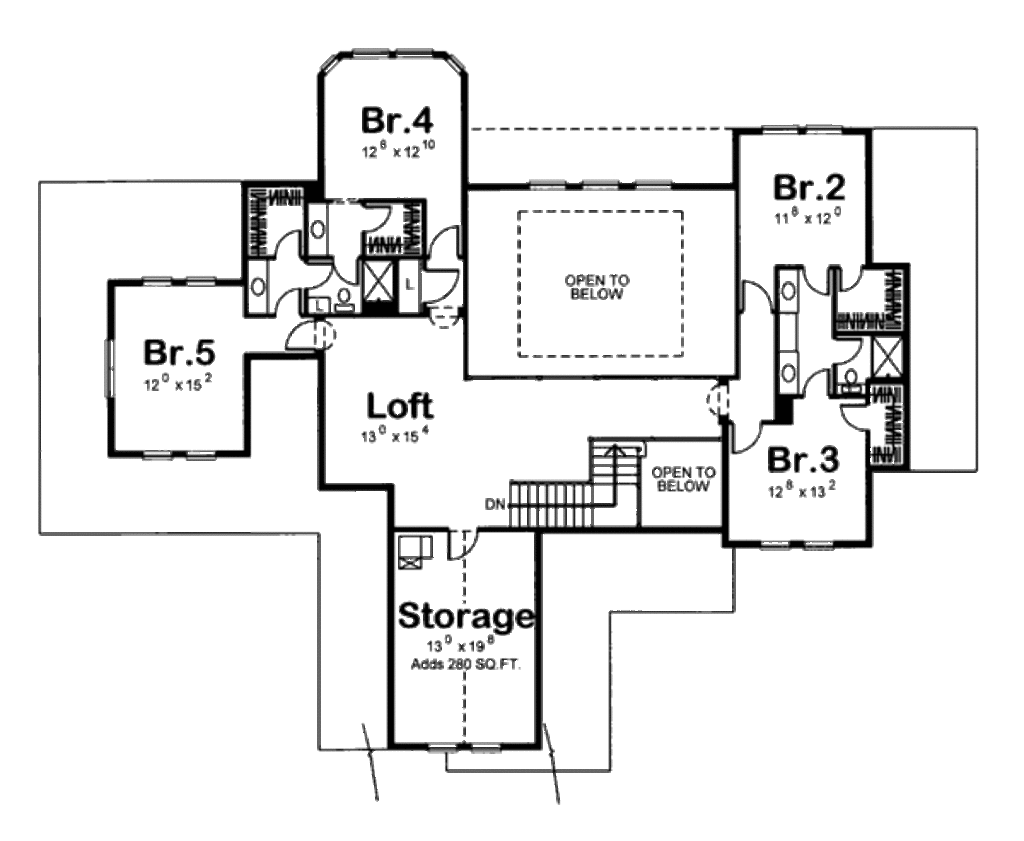door: (725, 411, 762, 456), (740, 274, 779, 316), (442, 519, 475, 565), (798, 262, 834, 303), (273, 314, 315, 349), (429, 268, 463, 311), (424, 222, 460, 261), (840, 401, 875, 435), (357, 200, 392, 233), (798, 370, 838, 398), (832, 332, 864, 366), (271, 222, 302, 257), (273, 284, 301, 316), (331, 254, 360, 284), (303, 255, 332, 285), (846, 267, 870, 297)
large_sink: (836, 361, 863, 406), (331, 279, 357, 316)
small_sink: (303, 200, 331, 258), (246, 266, 275, 320), (776, 350, 799, 393), (781, 276, 799, 318)
stairs: (489, 431, 649, 528)
window: (315, 42, 468, 75), (524, 176, 673, 192), (763, 116, 840, 140), (132, 445, 220, 465), (137, 267, 223, 287), (103, 336, 120, 400)
